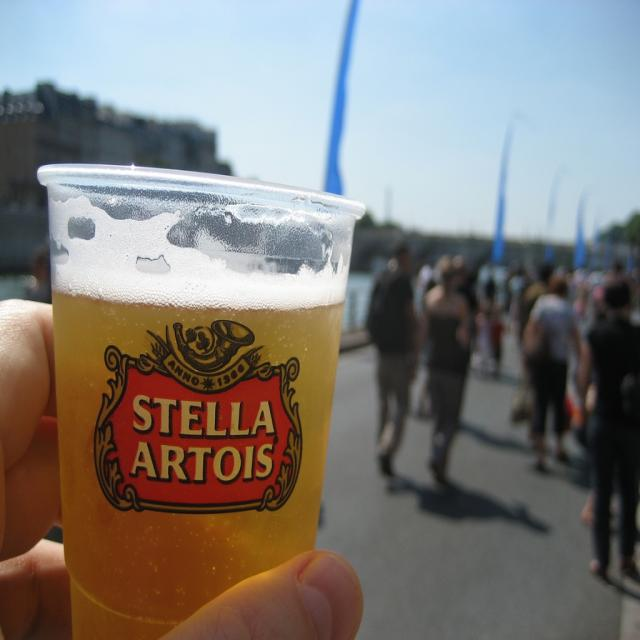stellaartois: (91, 314, 310, 520)
